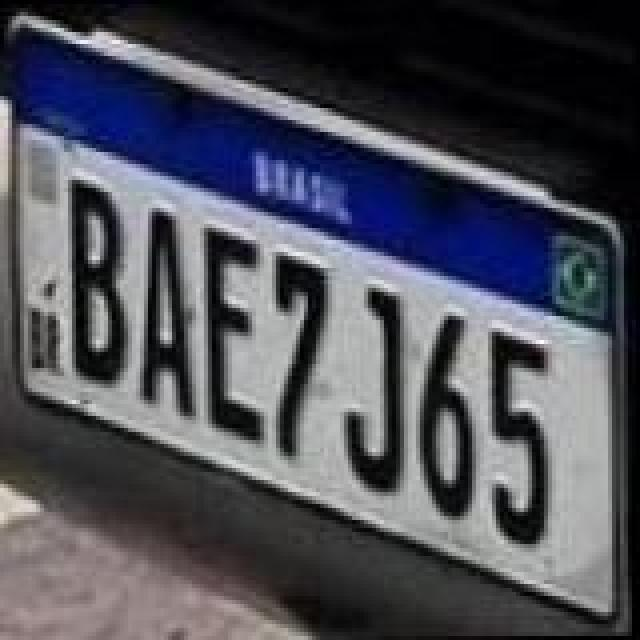5: (486, 324, 554, 548)
6: (410, 308, 482, 520)
7: (266, 246, 334, 458)
A: (136, 200, 200, 420)
B: (66, 178, 134, 390)
E: (204, 220, 268, 448)
J: (336, 280, 412, 496)
